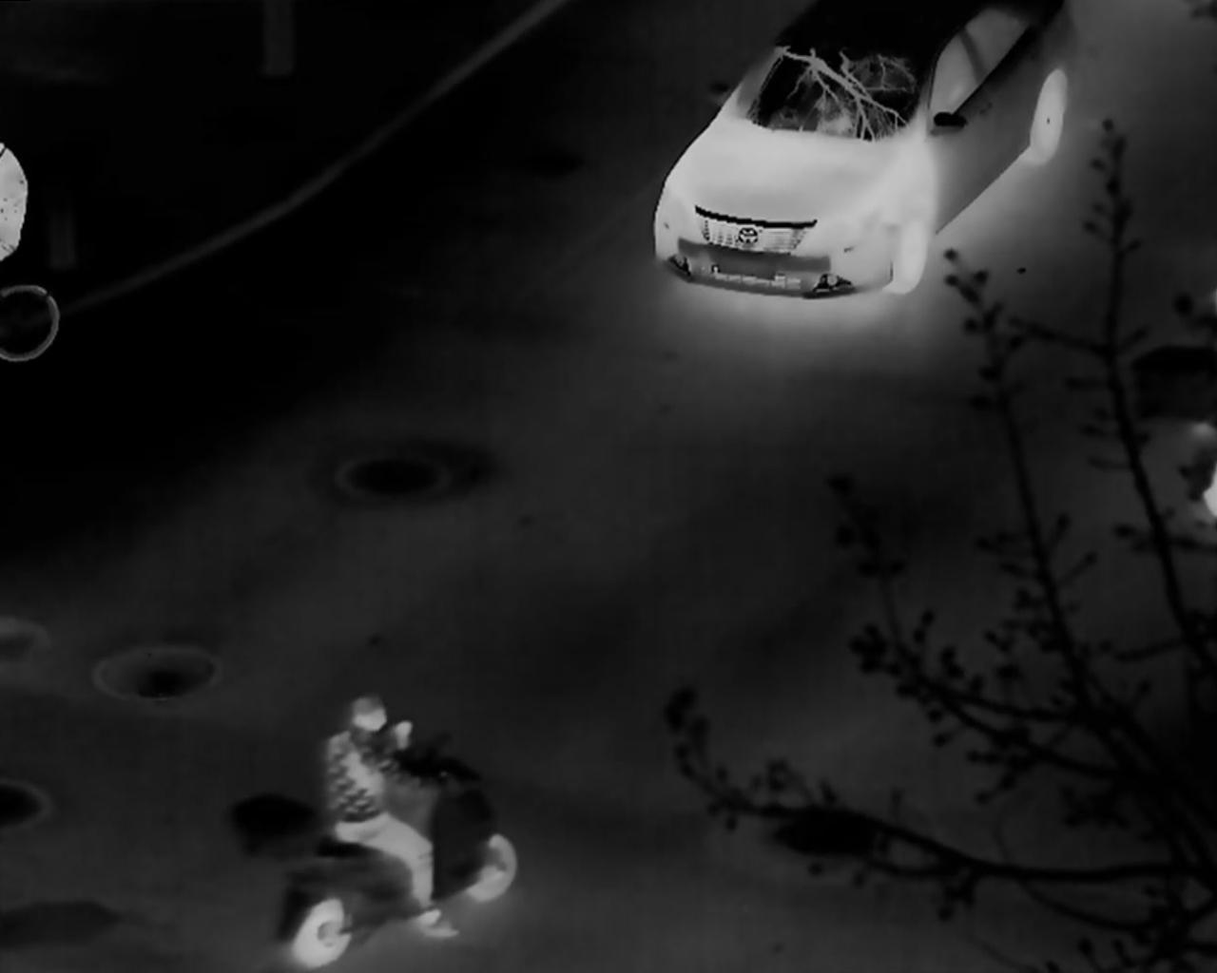person: (321, 693, 462, 937)
